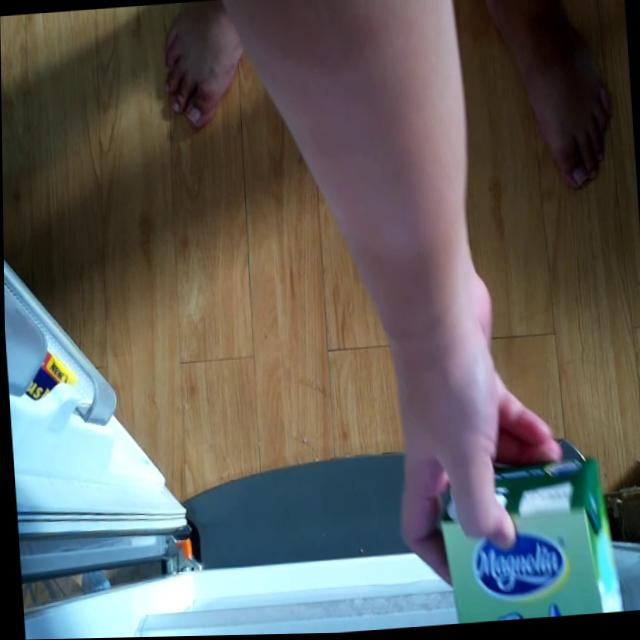milk: (425, 459, 622, 627)
